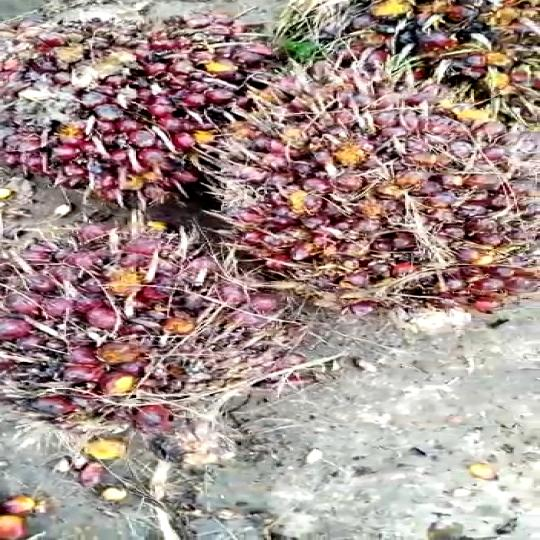masak: (213, 66, 540, 329), (0, 207, 307, 447), (0, 8, 262, 226)
